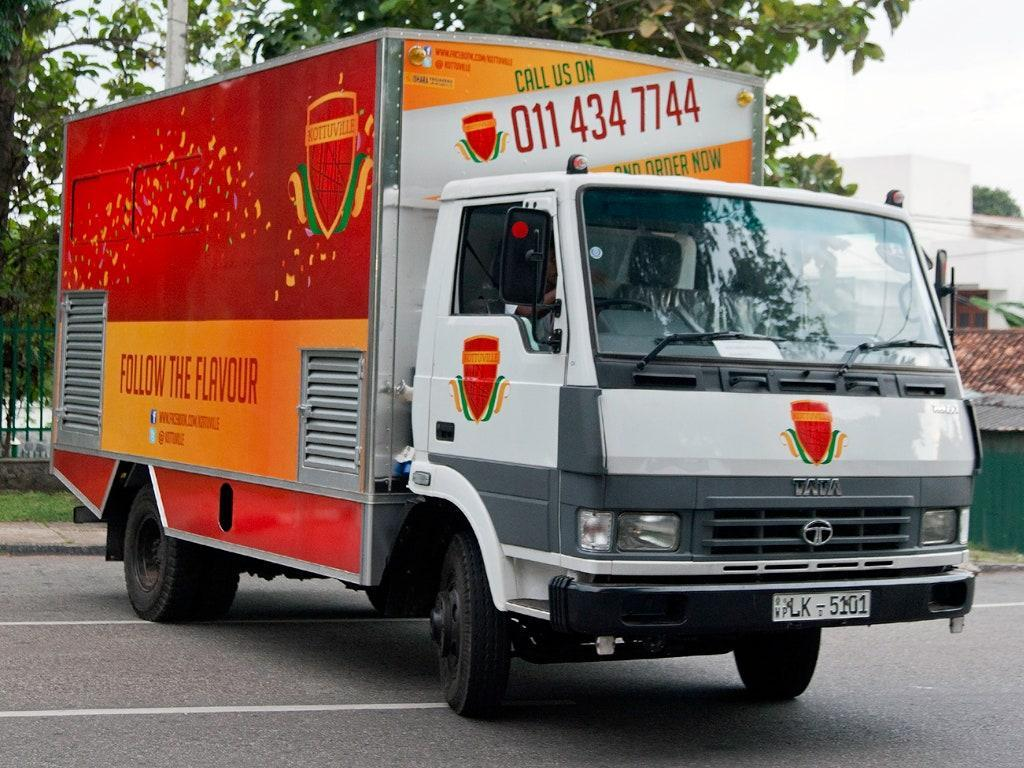truck: (47, 26, 978, 716)
